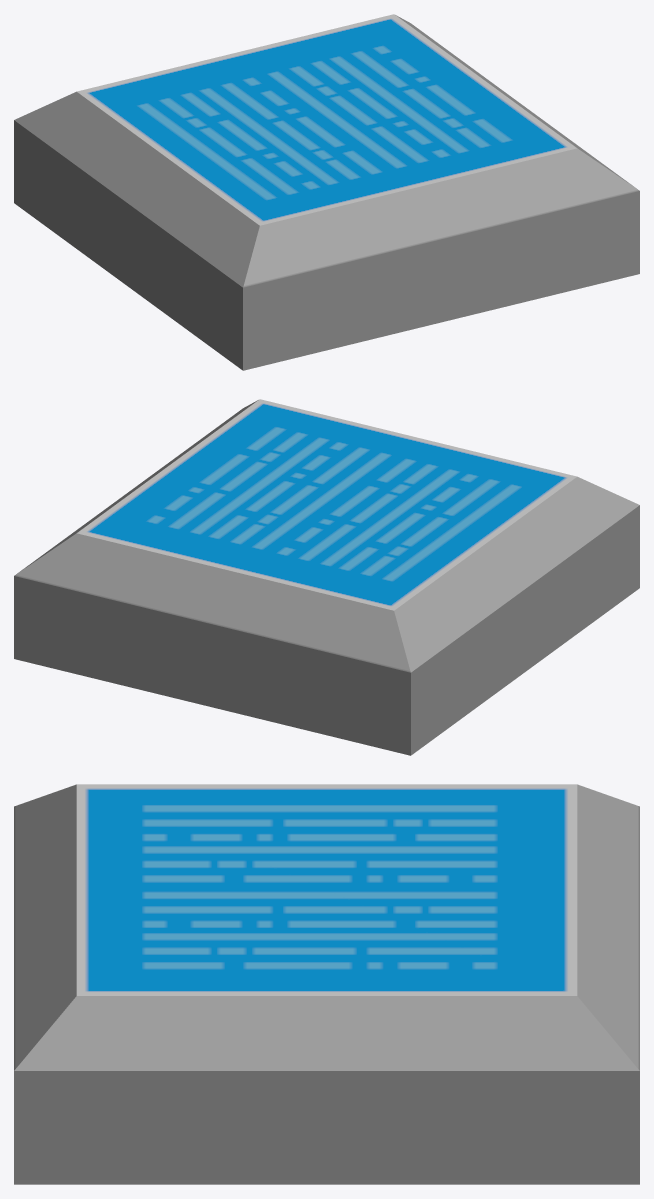
Rendered from DataPad.fbx.
3 renders of one model, top to bottom at view 1: azimuth 30°, elevation 25°; view 2: azimuth 150°, elevation 25°; view 3: azimuth 270°, elevation 25°, orthographic. The views are drawn at different scales.
Parts seen in each view (by area): view 1: DataPad; view 2: DataPad; view 3: DataPad.
Part boxes in pixels (x1,y1,x2,y2): DataPad: (14,14,639,370); DataPad: (14,399,639,755); DataPad: (14,784,639,1184).
Bounding box in the file's own units: 20 × 5.71 × 20.
1 material, 1 textured.
